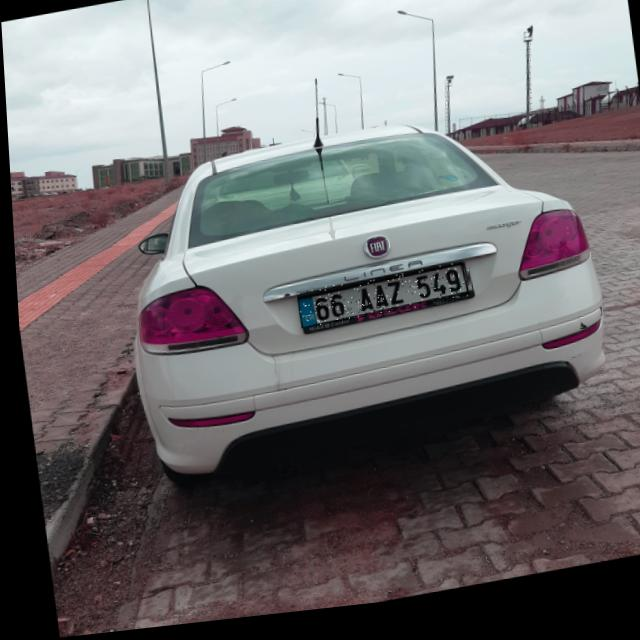license_plate: (292, 270, 468, 335)
